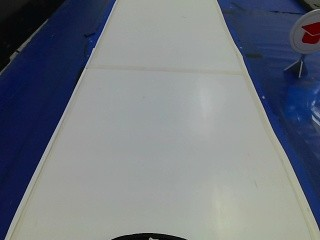school: (288, 8, 318, 52)
